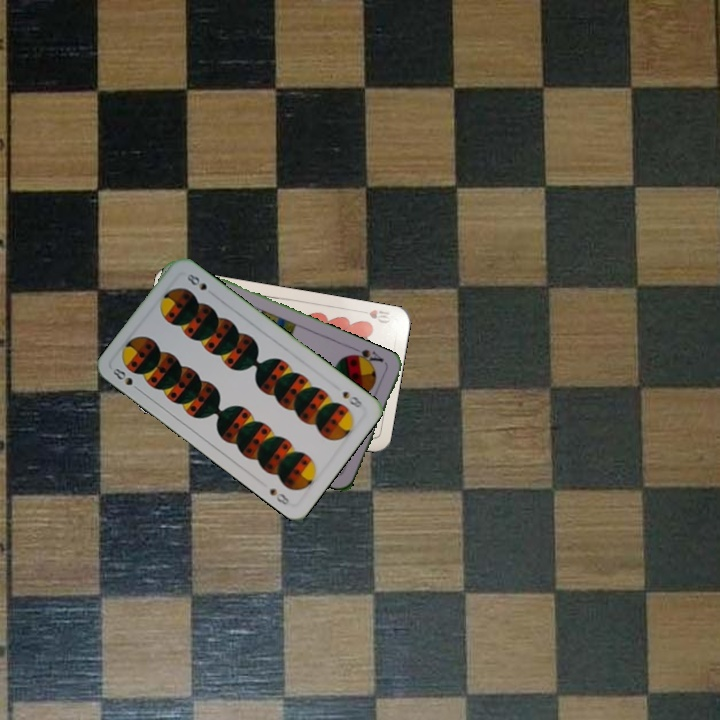H10: (355, 306, 393, 326)
S8: (109, 364, 144, 394), (338, 387, 365, 411)
SA: (347, 343, 386, 369)
